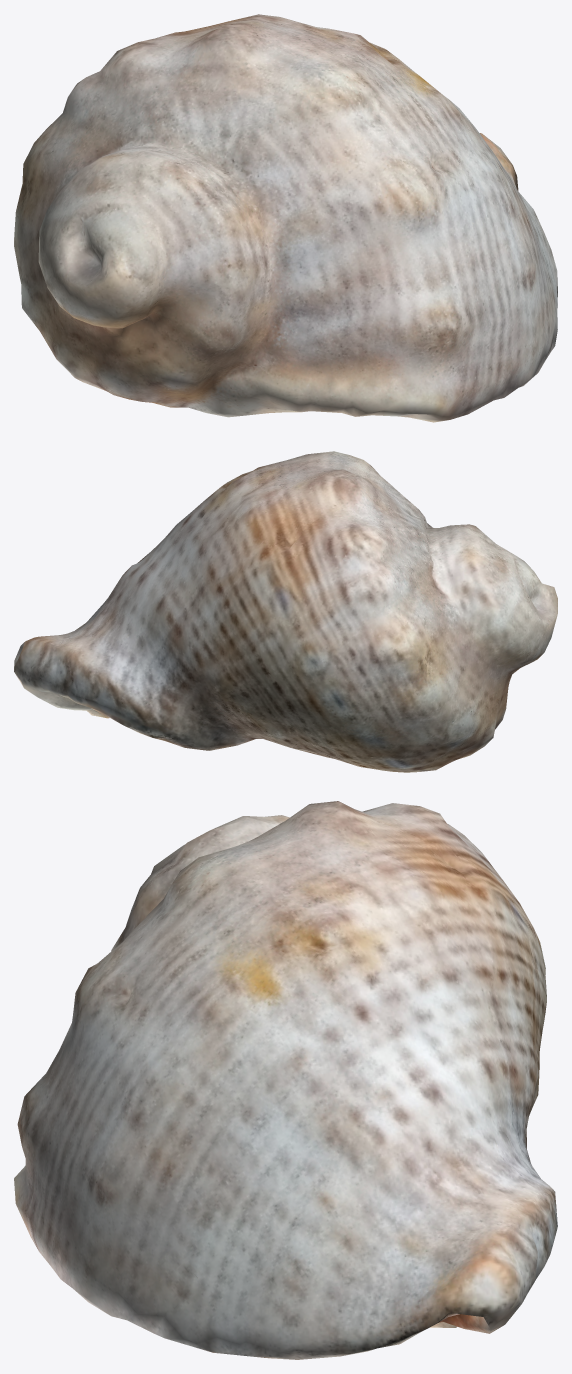
File: whelk-high.glb
3 renders of one model, top to bottom at view 1: azimuth 30°, elevation 25°; view 2: azimuth 150°, elevation 25°; view 3: azimuth 270°, elevation 25°, orthographic. The views are drawn at different scales.
Parts seen in each view (by area): view 1: Whelk; view 2: Whelk; view 3: Whelk.
Part boxes in pixels (bbox=[...]): Whelk: bbox=[14, 14, 557, 422]; Whelk: bbox=[14, 451, 557, 772]; Whelk: bbox=[14, 801, 557, 1359].
Bounding box in the file's own units: 1.11 × 0.6493 × 0.8103.
Materials: 1 (1 with a texture image).
